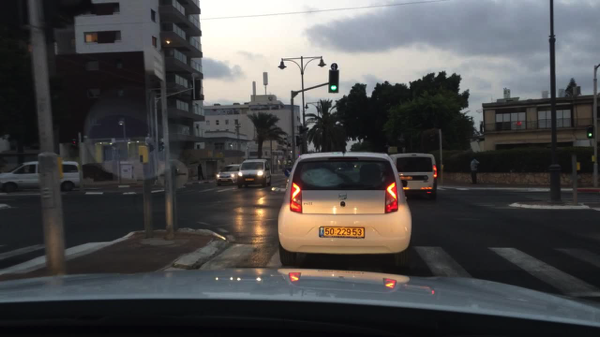car: (278, 151, 412, 268), (0, 161, 80, 191), (388, 154, 438, 199), (242, 159, 272, 189), (217, 164, 242, 186)
person: (469, 153, 479, 184), (197, 164, 206, 181), (72, 138, 76, 147)
traffic light: (329, 70, 339, 93), (138, 146, 148, 164), (587, 126, 595, 140)
traffic sign: (284, 168, 294, 177), (590, 155, 597, 163), (576, 162, 580, 170)
